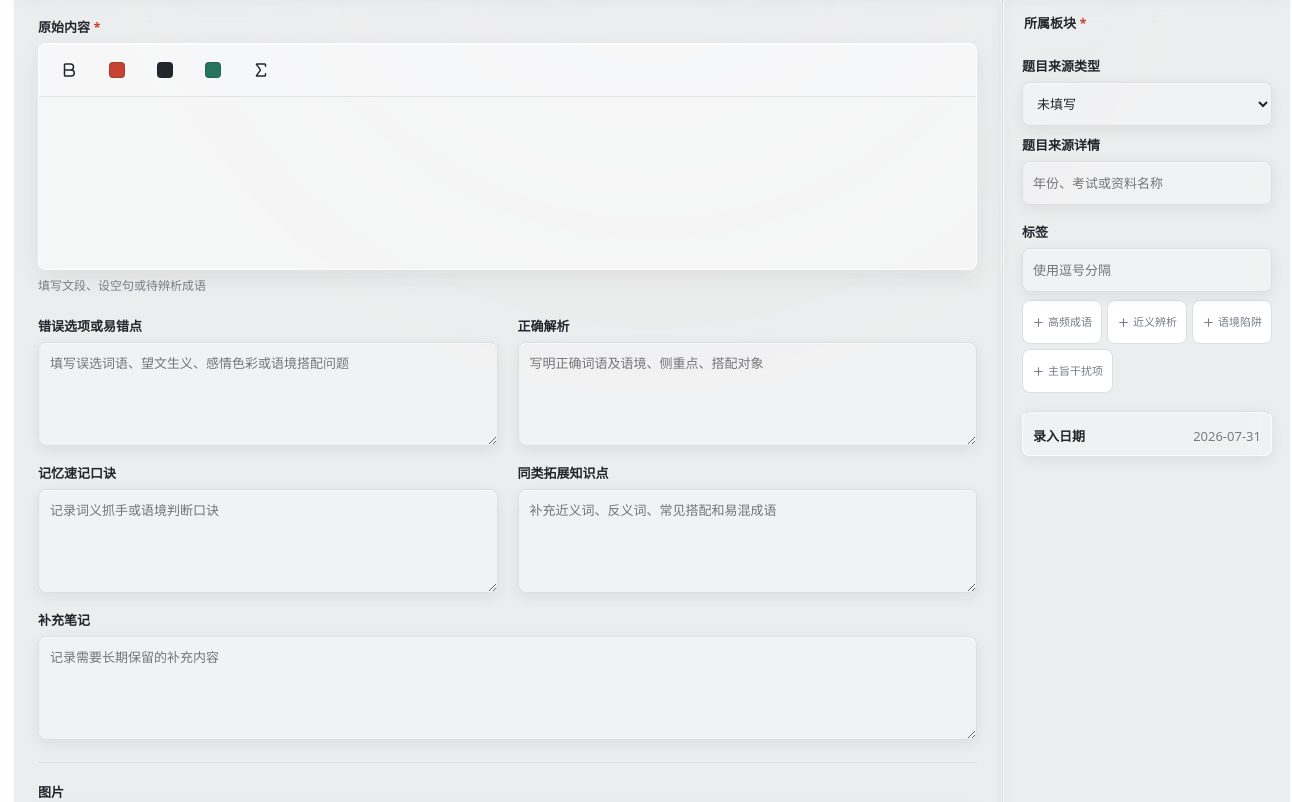
Test case: 录入表单 › 剪贴板读取失败时保留内容并显示稳定提示
(page scrolled)
Step 1. Type "原笔记" into the text box labelled "补充笔记" → (508, 688), box [38,636,977,740]
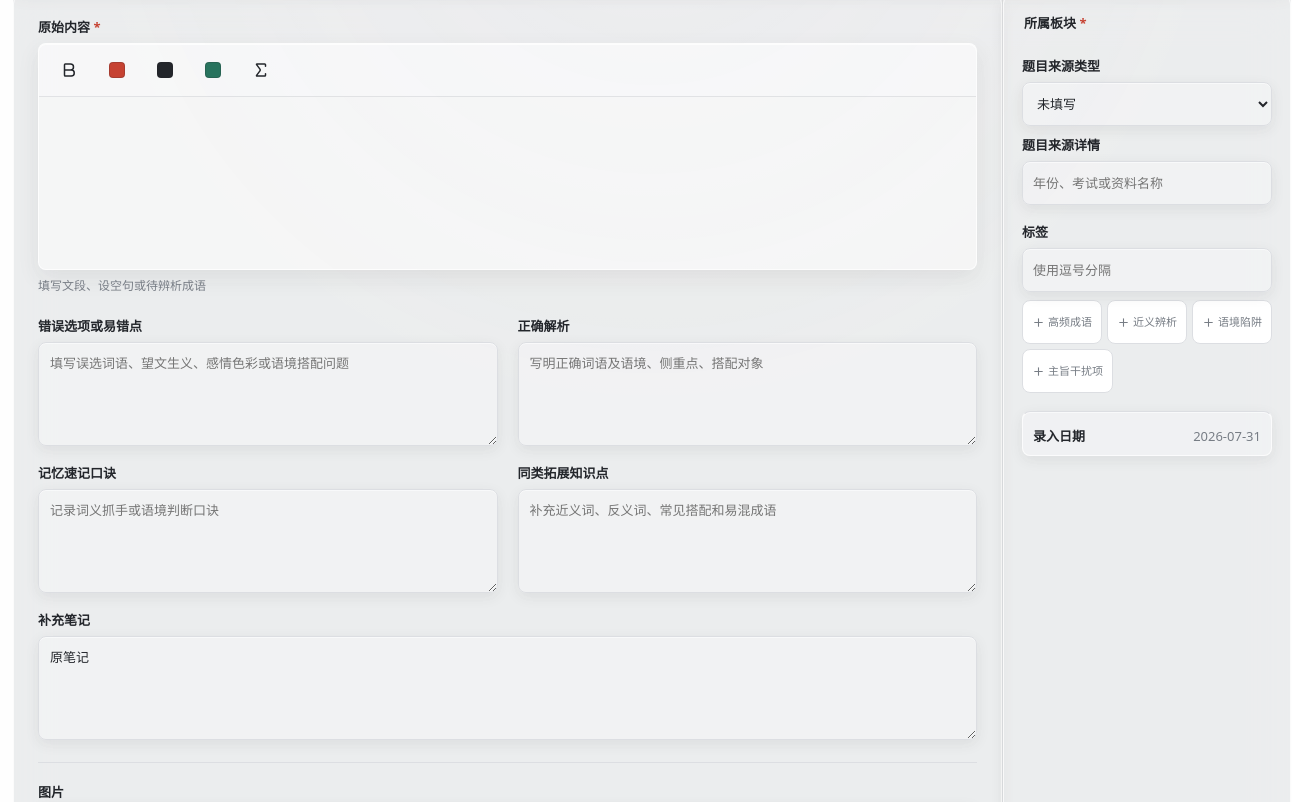
Step 2. Focus the text box labelled "补充笔记" → (508, 688), box [38,636,977,740]
(page scrolled)
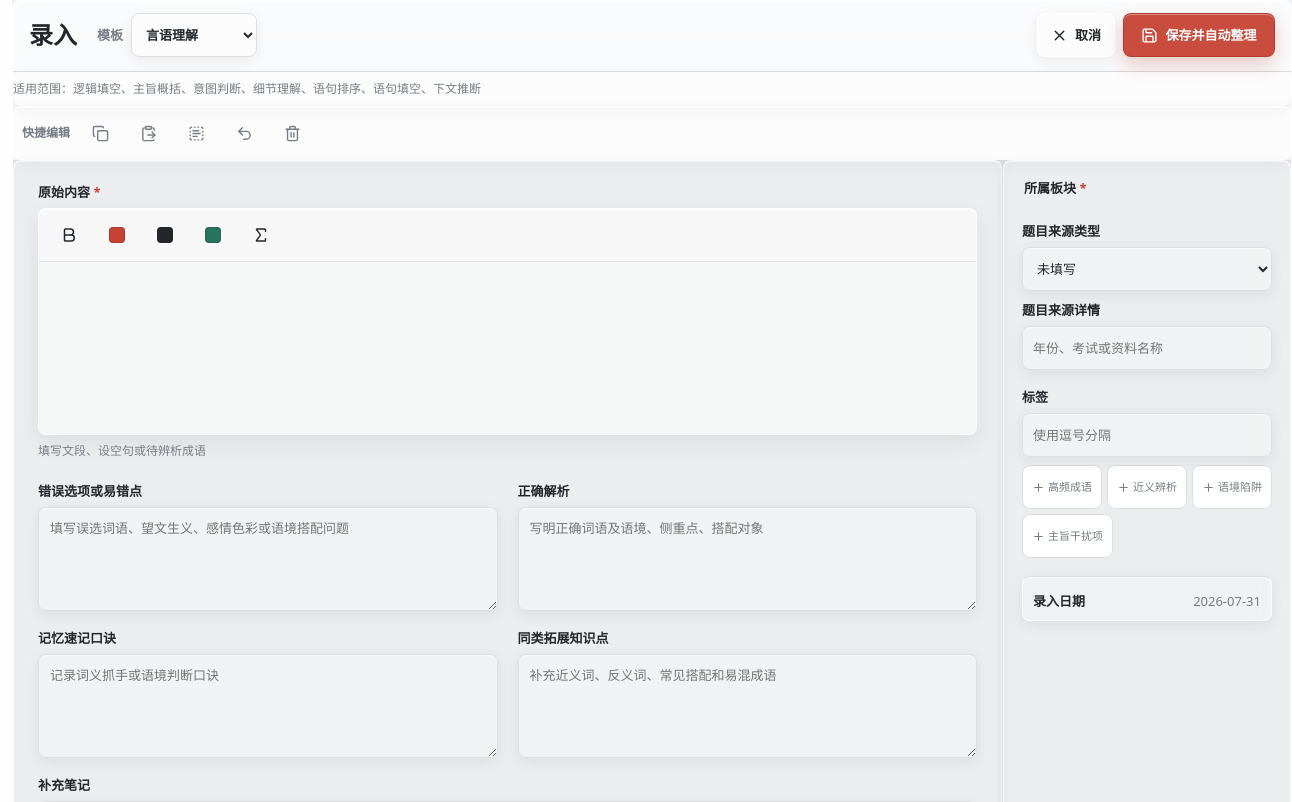
Step 3. Click the button named "粘贴到当前编辑区" → (148, 133), box [126,111,170,155]
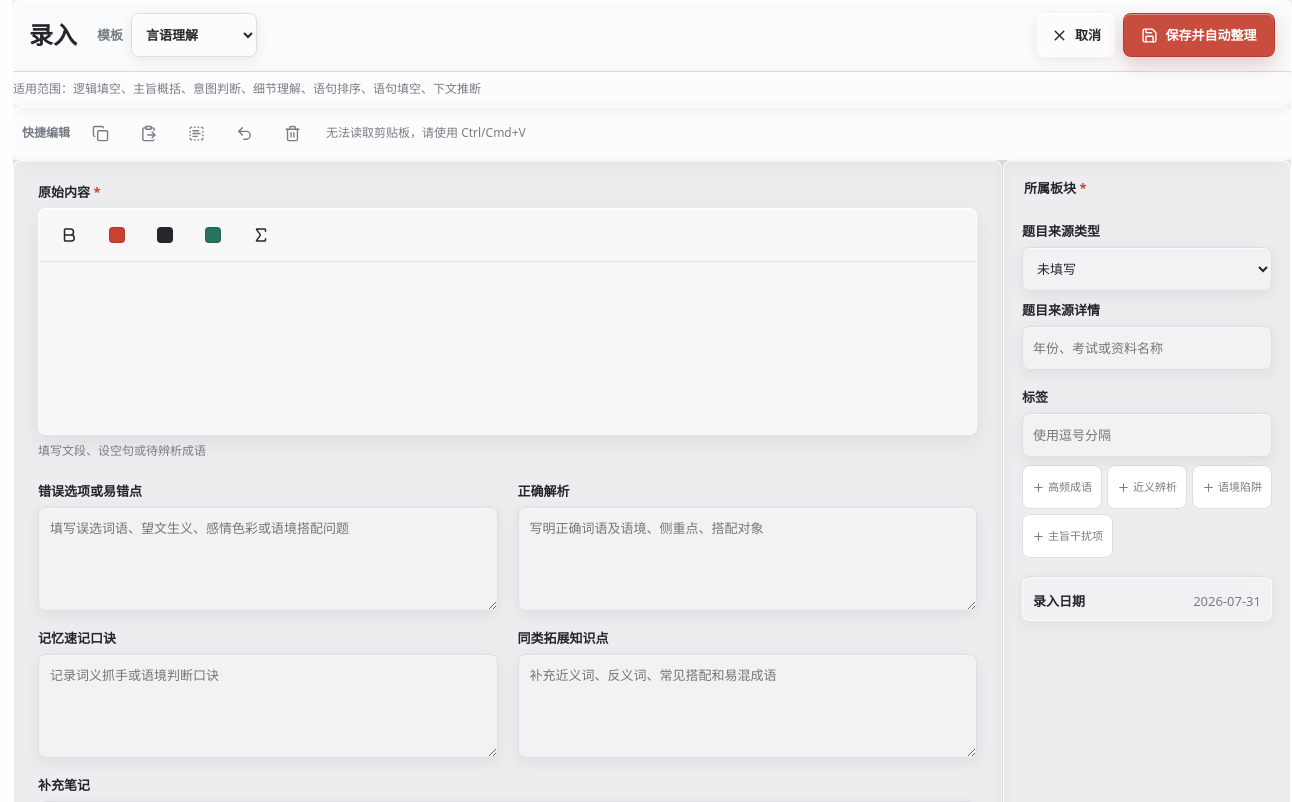
Result: the message reads "无法读取剪贴板，请使用 Ctrl/Cmd+V" at [326,124,526,141]
